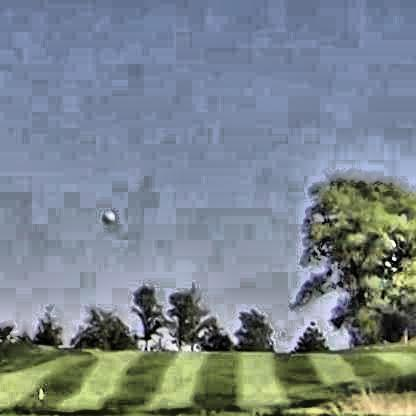golfball: (99, 206, 113, 222)
